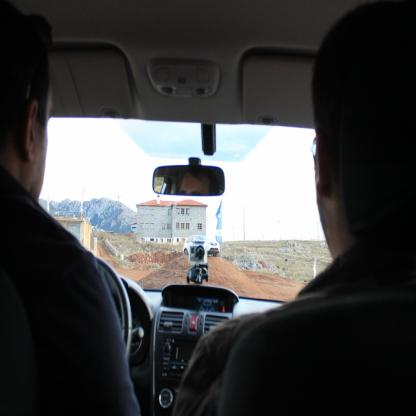Car: (1, 1, 416, 416), (183, 235, 220, 257)
